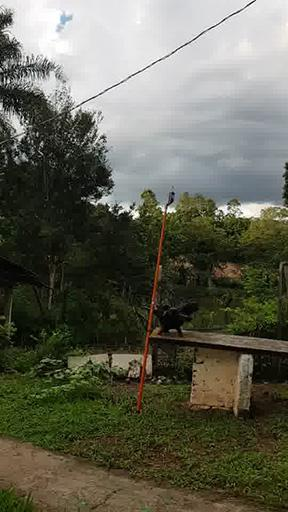Detector_Tensao_Contato: (164, 185, 175, 207)
Vara_Manobra: (136, 208, 167, 412)
